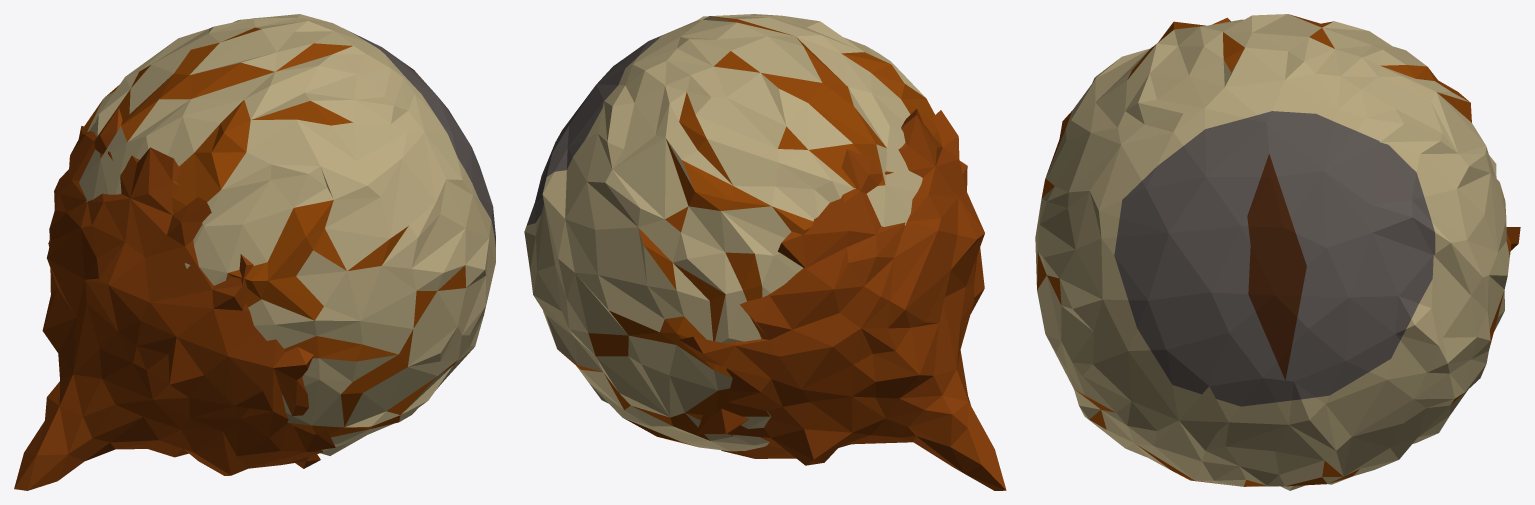
File: demon eye.glb
3 renders of one model, left to right at view 1: azimuth 30°, elevation 25°; view 2: azimuth 150°, elevation 25°; view 3: azimuth 270°, elevation 25°, orthographic. The views are drawn at different scales.
Visible parts, largest first — view 1: Cube, Cube.001; view 2: Cube, Cube.001; view 3: Cube.
Boxes of the visible parts, <box> form: Cube: <box>79,14,495,455</box>; Cube.001: <box>14,108,335,490</box>; Cube: <box>524,14,941,451</box>; Cube.001: <box>679,109,1006,490</box>; Cube: <box>1035,14,1511,490</box>.
Bounding box in the file's own units: 0.2264 × 0.198 × 0.1929.
